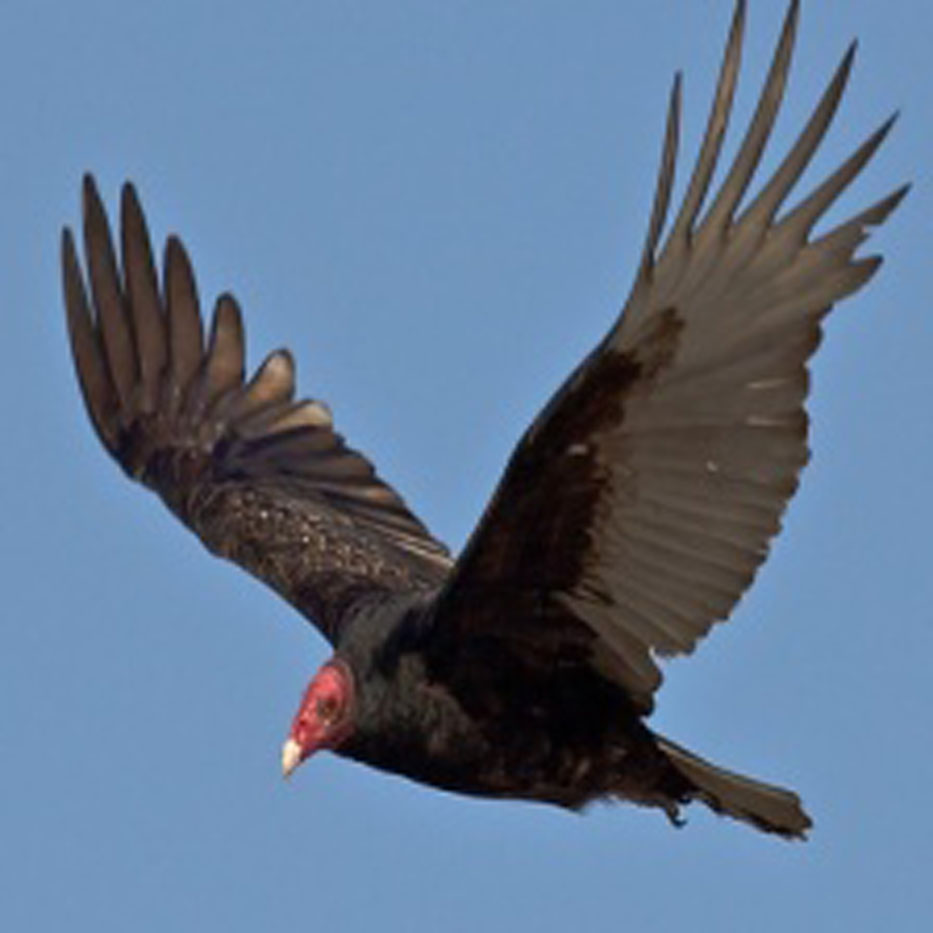Pengoyak Daging: (270, 736, 311, 787)
